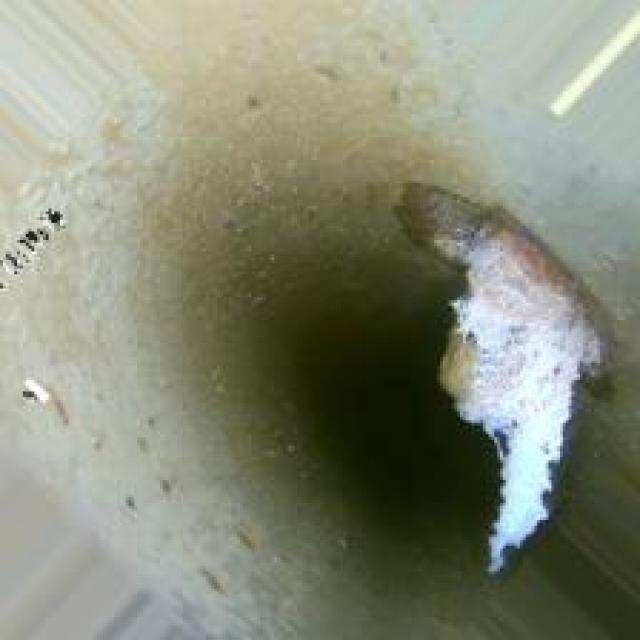ferrule: (429, 197, 597, 500)
